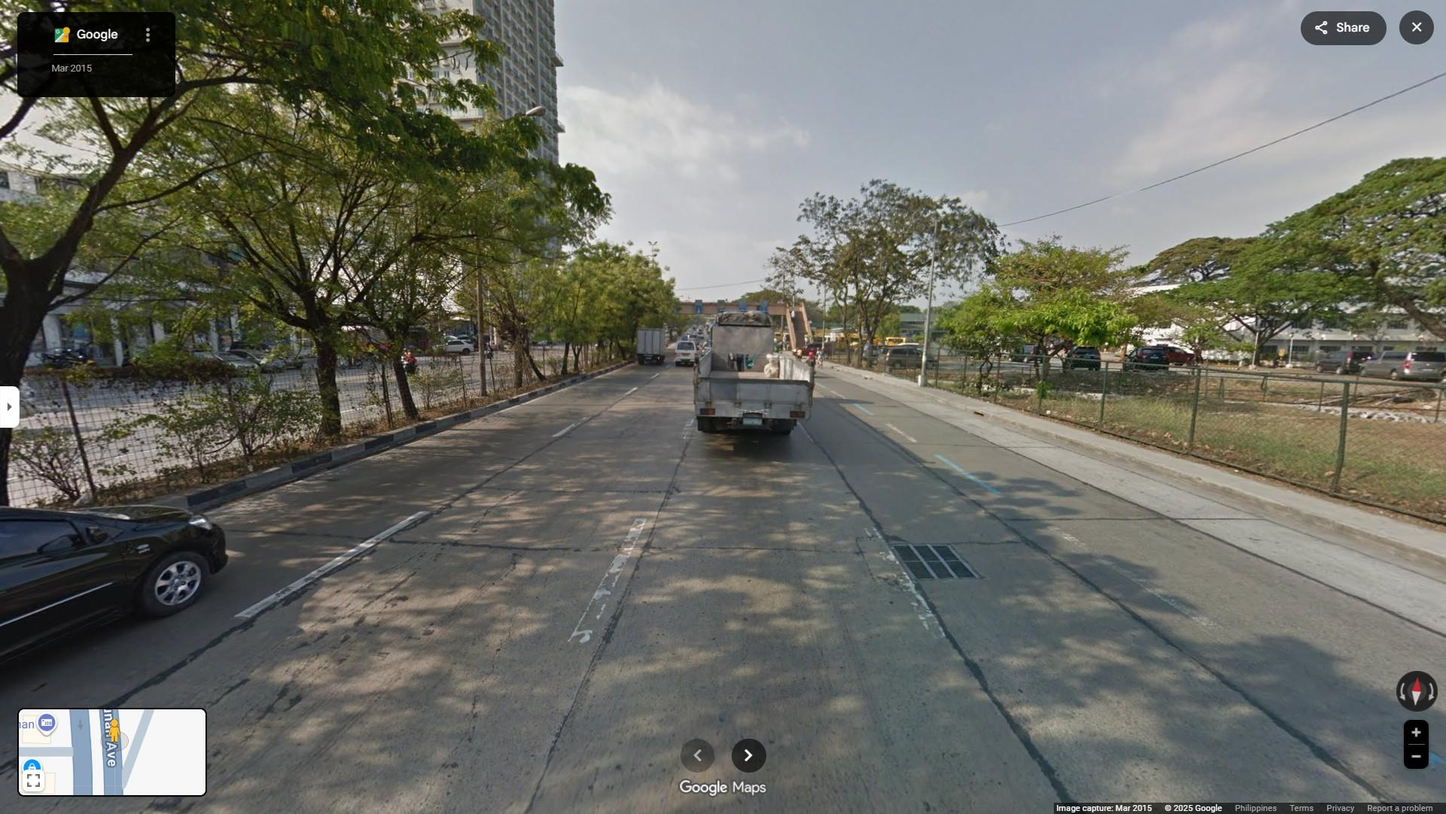cyclist: (793, 347, 803, 368), (815, 347, 823, 368)
pedestrian: (790, 310, 796, 324)
